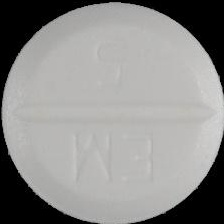49884-640: (0, 0, 224, 224)
